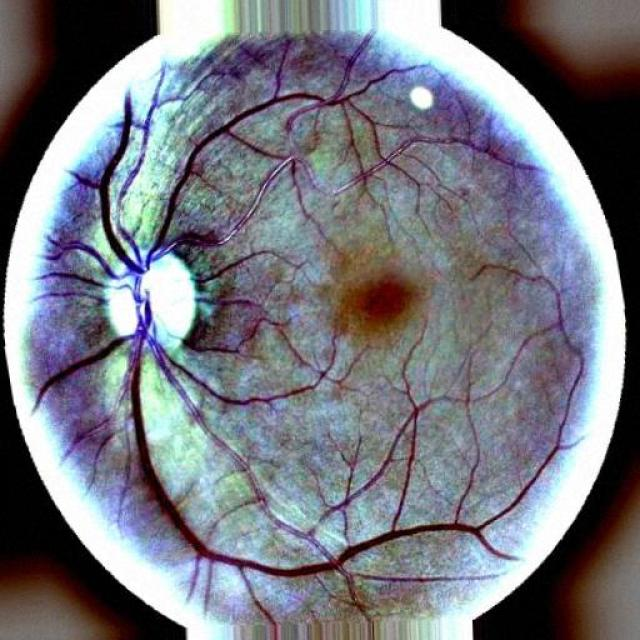Macula: (340, 274, 419, 338)
Optic Disk: (105, 249, 176, 354), (139, 247, 195, 346)
